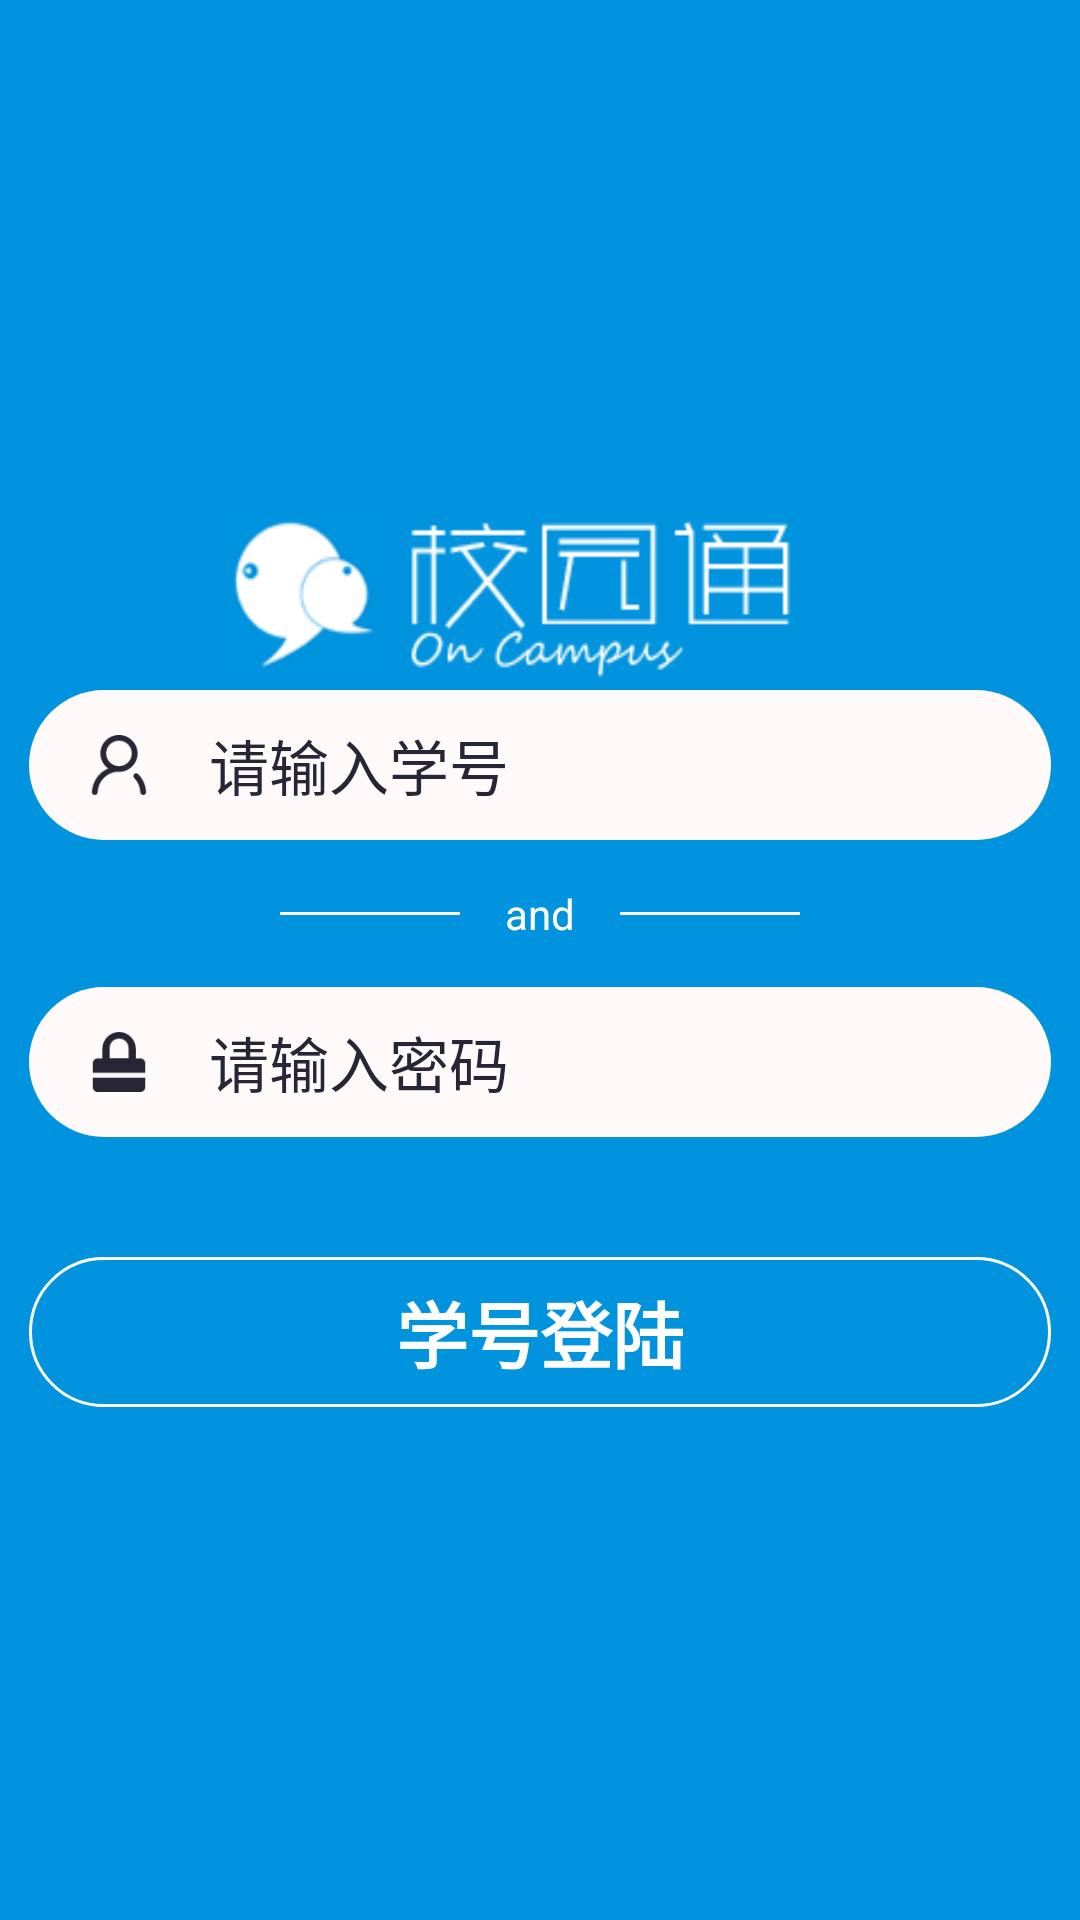

Where to tap for icons on this 1080px×1920px app screen, as point (x, y):
account: point (119, 765)
password: point (119, 1062)
